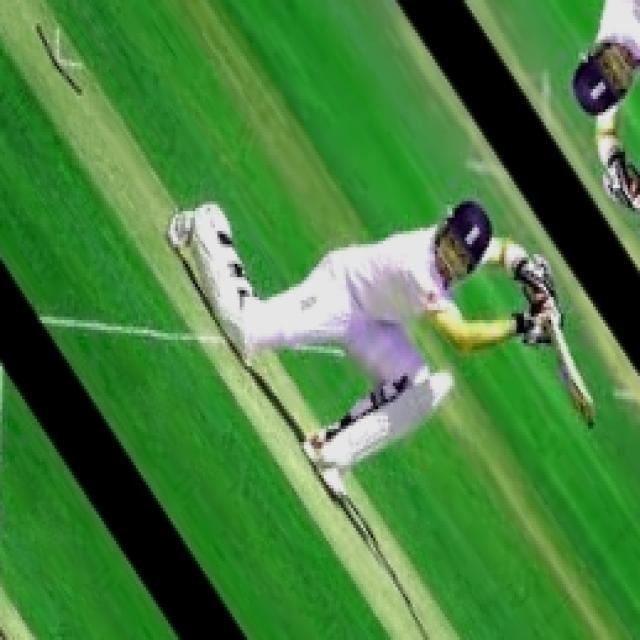toe: (563, 380, 609, 434)
